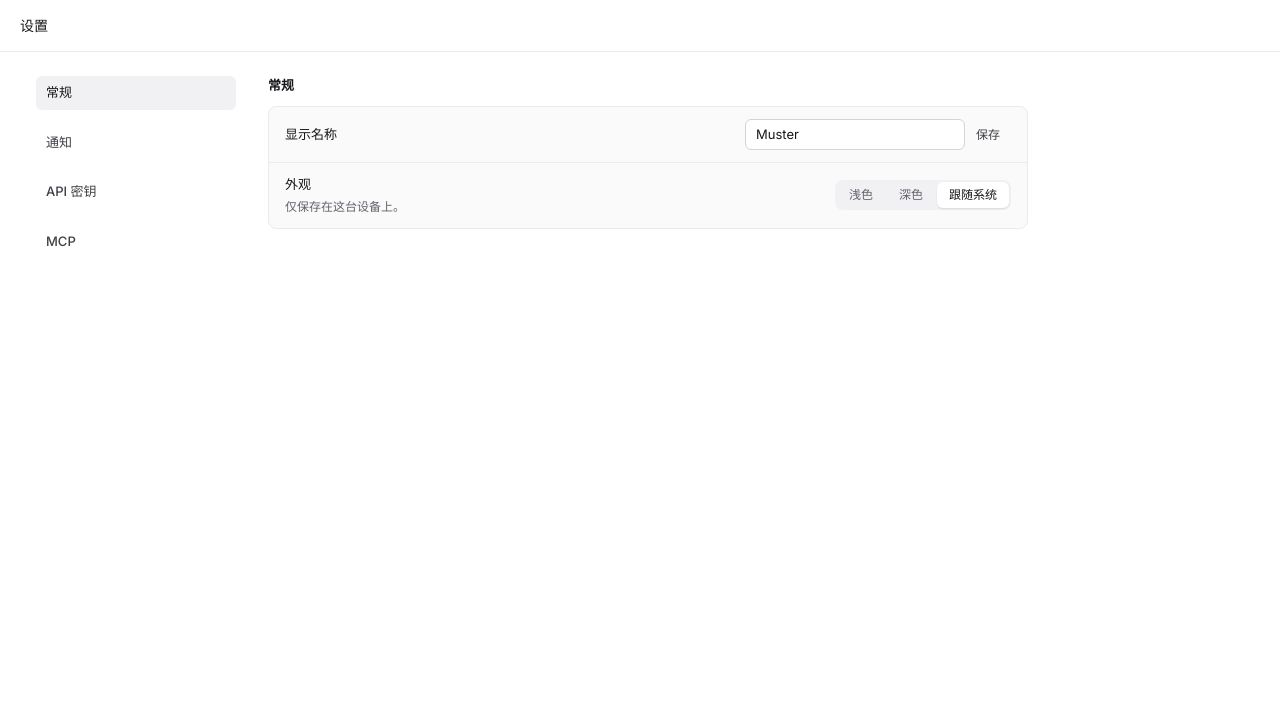
it: keeps only general, notification, API key and MCP settings
Expected: the field named "显示名称" holds "Muster", [745,118,965,150]
Click the tab "通知".
click(136, 142)  # box [36,126,236,159]
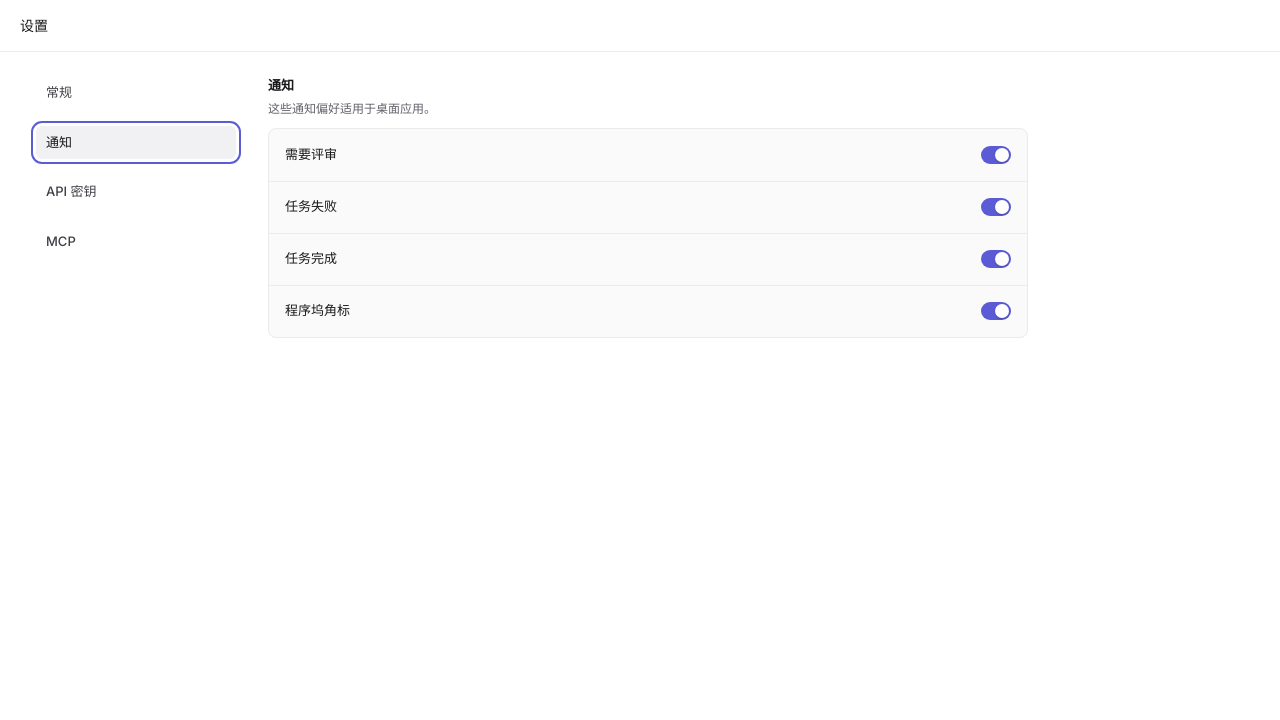
Result: the text "这些通知偏好适用于桌面应用。" is shown at [268,100,436,118]
Result: the switch named "程序坞角标" is checked at [981,302,1011,320]
Click the tab "API 密钥".
click(136, 192)  # box [36,175,236,208]
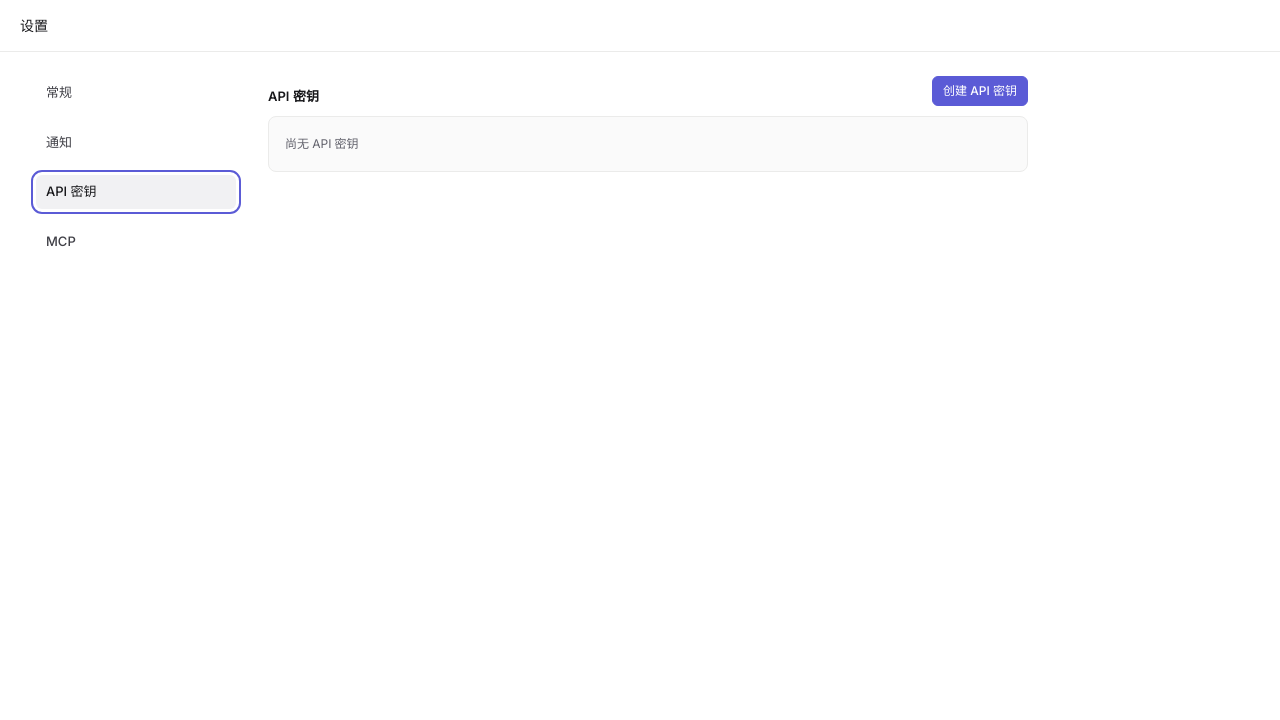
Result: the text "尚无 API 密钥" is shown at [285,136,359,151]
Click the tab "MCP".
click(136, 241)  # box [36,224,236,258]
(page scrolled)
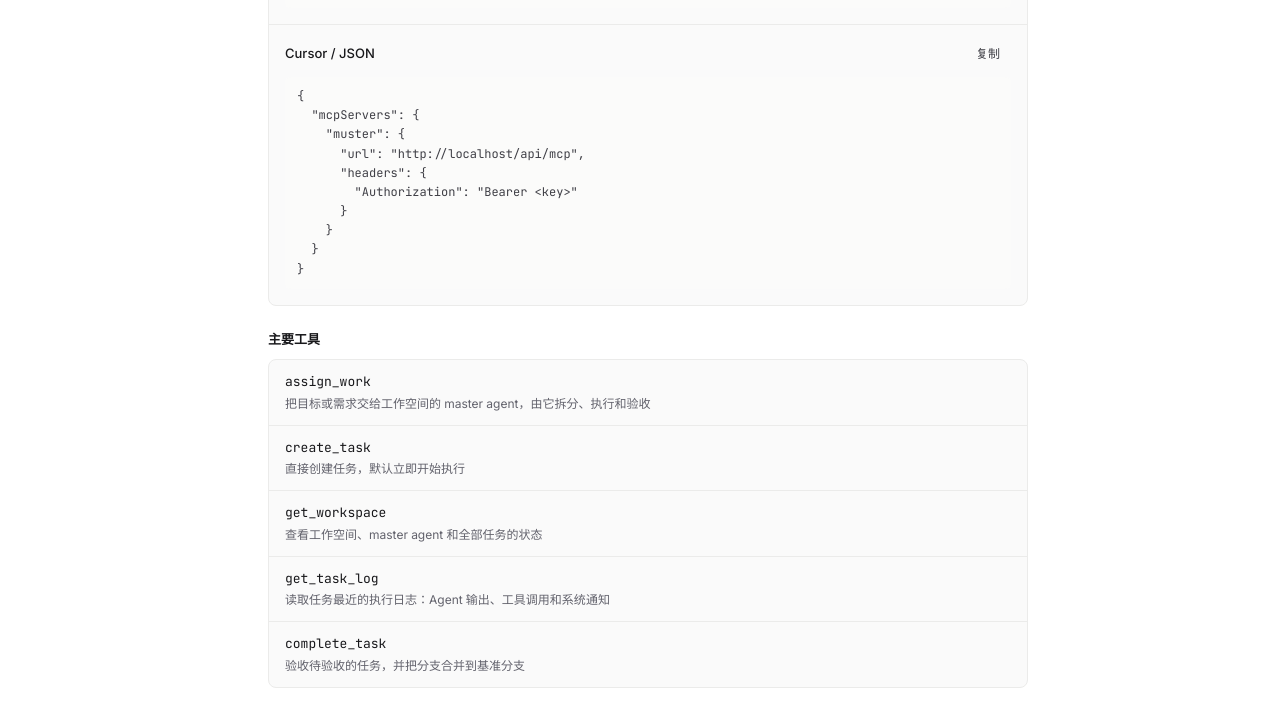
Result: the text "assign_work" is shown at [285,372,371,392]
